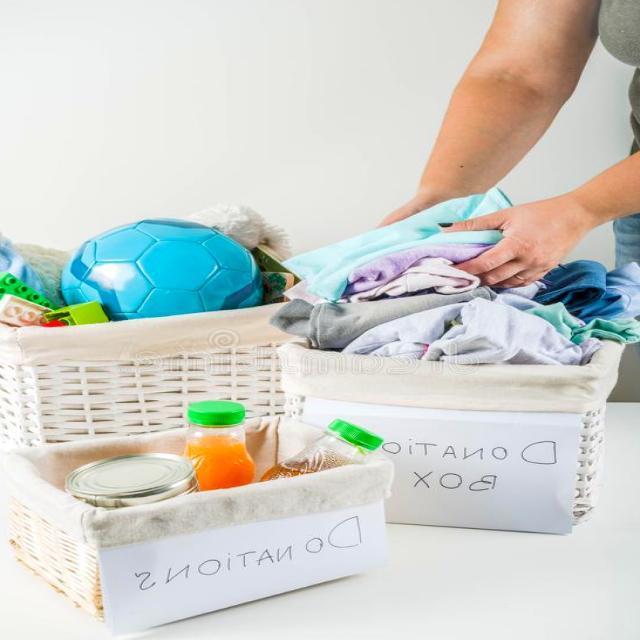clothes: (428, 272, 628, 362)
